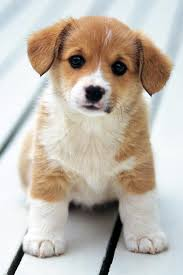dog: (11, 14, 175, 261)
